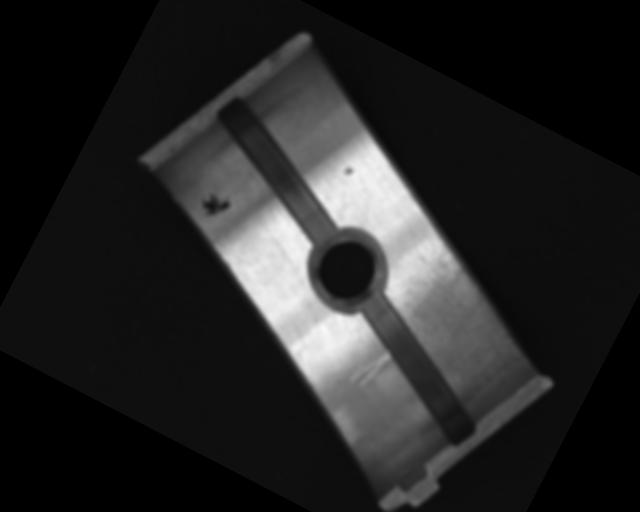blot: (195, 185, 236, 226)
bruise: (342, 165, 354, 177)
gap: (322, 287, 515, 456), (181, 89, 370, 250)
hole: (303, 221, 397, 316)
nick: (345, 340, 393, 396)
scratch: (357, 228, 564, 426)
